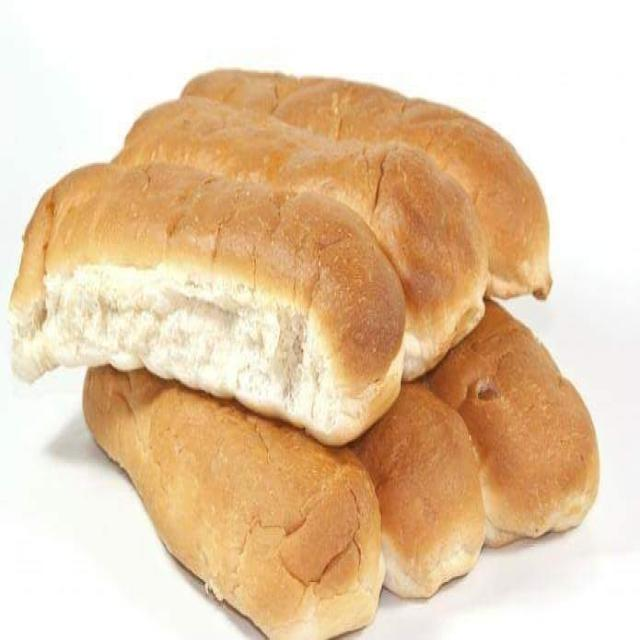bread: (11, 165, 405, 444), (116, 98, 488, 379), (184, 71, 551, 297), (84, 368, 383, 638), (428, 301, 598, 545), (351, 383, 484, 597)
